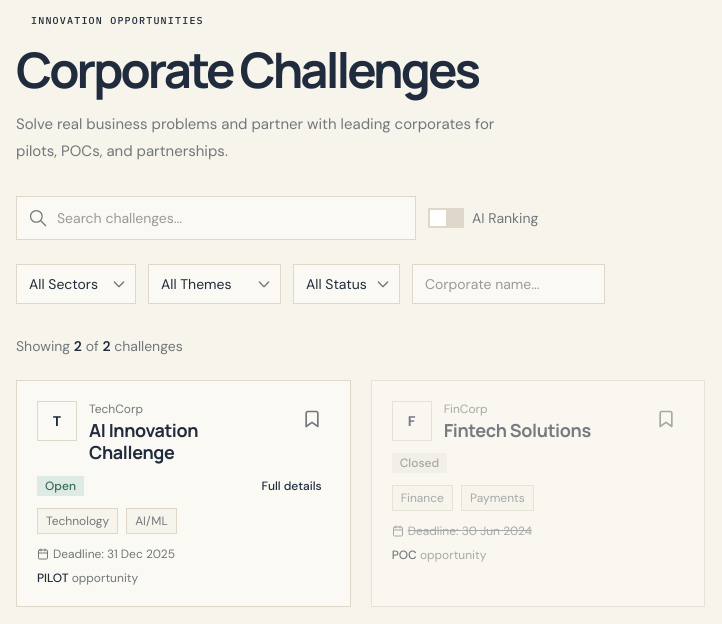
Test: ChallengesPage › shows Clear all button when filters are active
Select "Open" in the dropdown named "Status" at (346, 284), box [293,264,400,304]
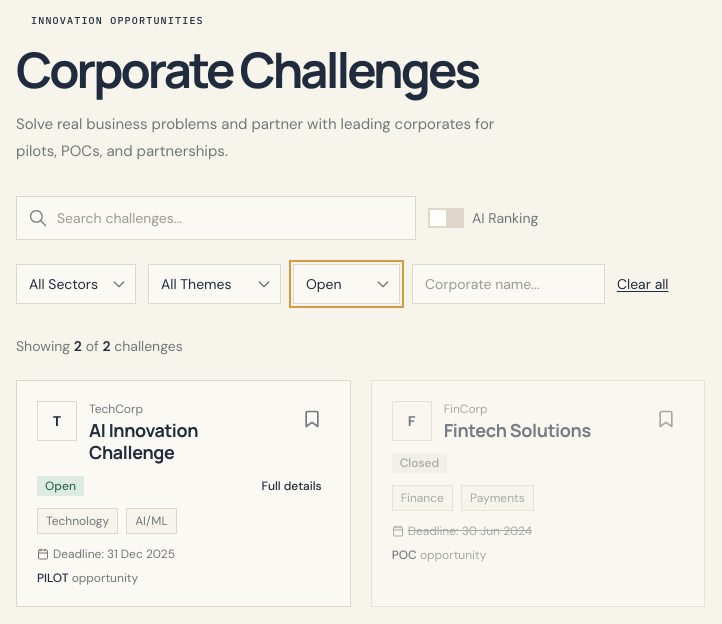
Now the button "Clear all" is shown, box [617,274,668,294]
